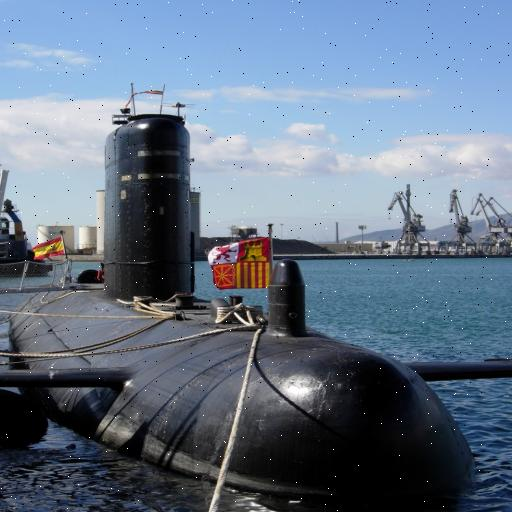submarine: (1, 72, 512, 512)
